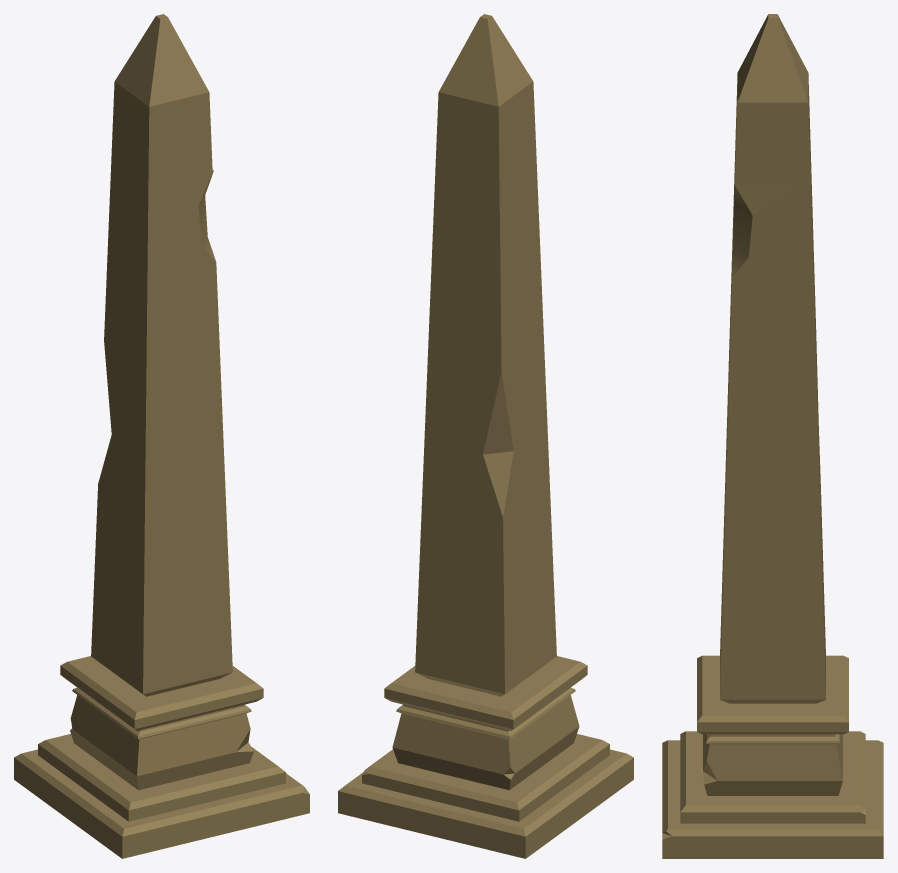
Rendered from SM_Monolith_001.fbx.
The picture shows the model from 3 angles, left to right: view 1: azimuth 30°, elevation 25°; view 2: azimuth 150°, elevation 25°; view 3: azimuth 270°, elevation 25°; orthographic projection. The views are drawn at different scales.
Visible parts, largest first — view 1: SM_Monolith_001; view 2: SM_Monolith_001; view 3: SM_Monolith_001.
Part boxes in pixels (x1,y1,x2,y2): SM_Monolith_001: (14, 14, 309, 858); SM_Monolith_001: (338, 14, 633, 858); SM_Monolith_001: (662, 14, 883, 858).
Size of the model in its own units: 175 by 693 by 175.
